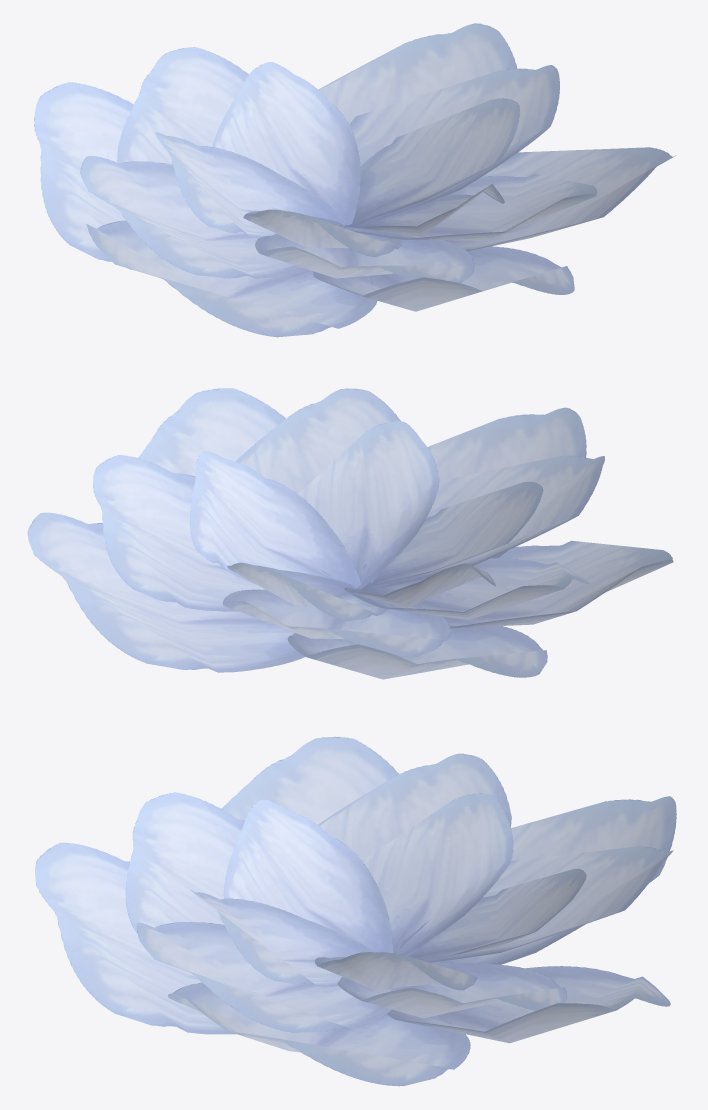
Rendered from F_Flower_06.fbx.
3 renders of one model, top to bottom at view 1: azimuth 30°, elevation 25°; view 2: azimuth 150°, elevation 25°; view 3: azimuth 270°, elevation 25°, orthographic. The views are drawn at different scales.
Visible parts, largest first — view 1: F_Flower_06; view 2: F_Flower_06; view 3: F_Flower_06.
Boxes of the visible parts, x1,y1,x2,y2 form: F_Flower_06: (34,23,676,337); F_Flower_06: (27,388,673,679); F_Flower_06: (34,736,676,1086).
Size of the model in its own units: 152 by 34.39 by 149.
